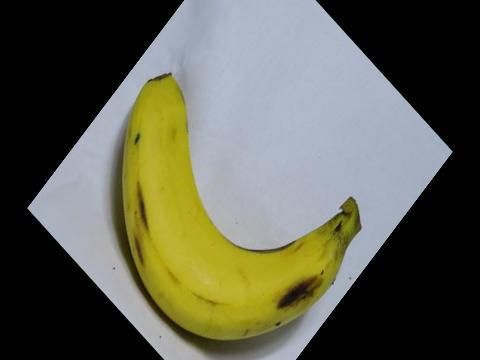freshripe: (108, 61, 381, 355)
